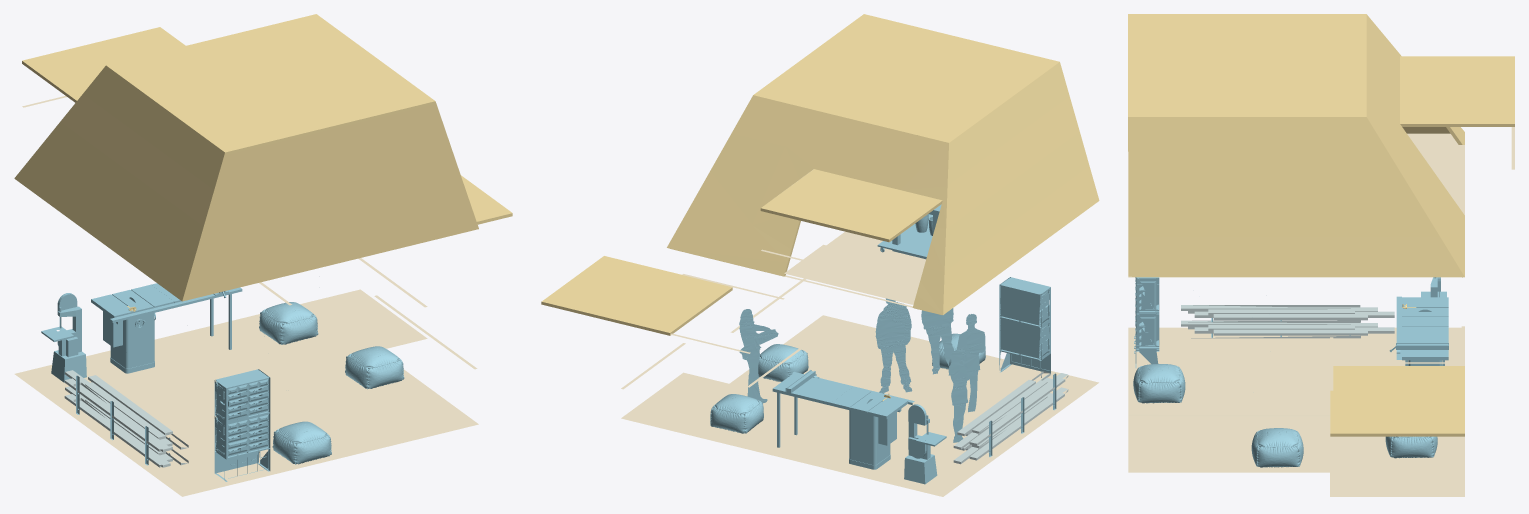
The model's file is workshop_model.glb.
3 views of the same model, side by side, from view 1: azimuth 30°, elevation 25°; view 2: azimuth 150°, elevation 25°; view 3: azimuth 270°, elevation 25° (orthographic). The views are drawn at different scales.
Visible parts, largest first — view 1: Layer 01, Workshop, Layer0, lumber; view 2: Layer 01, Workshop, Layer0, lumber; view 3: Layer 01, Workshop, Layer0, lumber.
Part boxes in pixels (x1,y1,x2,y2): Layer 01: (14,14,512,301); Workshop: (14,96,478,496); Layer0: (41,283,404,481); lumber: (64,370,188,467); Layer 01: (541,14,1099,335); Workshop: (621,169,1098,496); Layer0: (710,204,1056,484); lumber: (953,371,1068,464); Layer 01: (1128,14,1514,436); Workshop: (1128,127,1514,496); Layer0: (1133,277,1448,467); lumber: (1181,305,1394,338).
Size of the model in its own units: 7.34 by 5.5 by 5.69.
